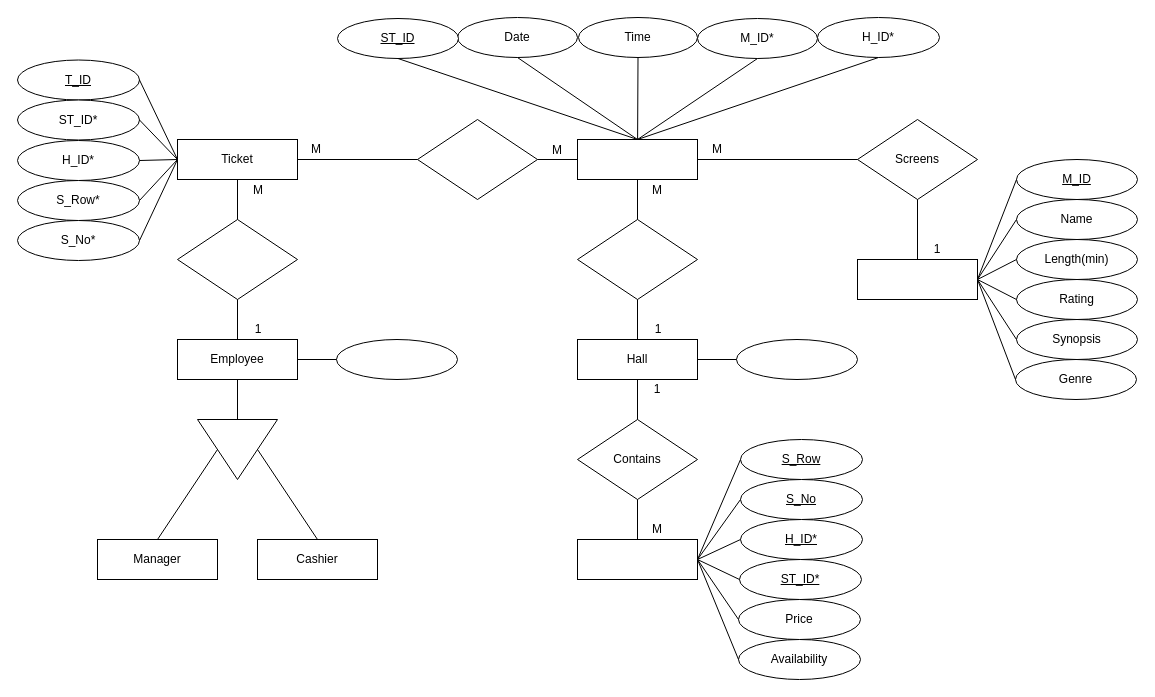
This 1155x697 diagram has some shape labels left out. The shapes that lost their labels are listed below. From the top down, each one's box as (x1, y1, x2, y2) in pixels, then its label:
(416, 118, 538, 200): Screening at
(576, 138, 698, 180): Showing time
(176, 218, 298, 300): Handled by
(576, 218, 698, 300): Screens in
(856, 258, 978, 300): Movie
(336, 338, 458, 380): E_ID
(736, 338, 858, 380): H_ID
(196, 418, 278, 480): Is a
(576, 538, 698, 580): Seats
